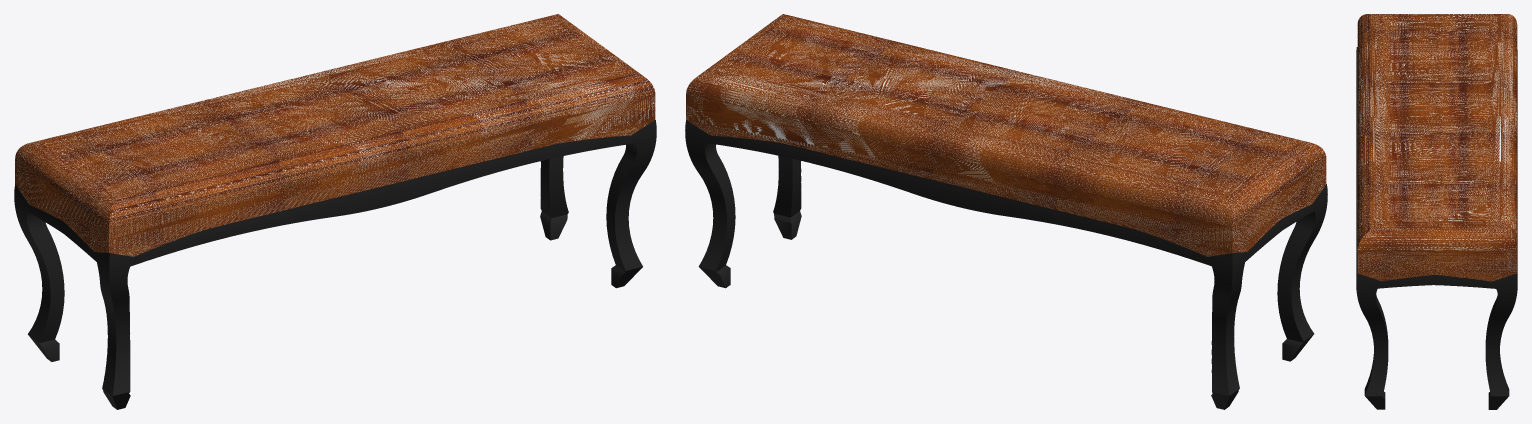
3 renders of one model, left to right at view 1: azimuth 30°, elevation 25°; view 2: azimuth 150°, elevation 25°; view 3: azimuth 270°, elevation 25°, orthographic. The views are drawn at different scales.
Parts seen in each view (by area): view 1: mesh4_mesh4-geometry, mesh1_mesh1-geometry; view 2: mesh4_mesh4-geometry, mesh1_mesh1-geometry; view 3: mesh4_mesh4-geometry, mesh1_mesh1-geometry.
Part boxes in pixels (x1,y1,x2,y2): mesh4_mesh4-geometry: [15, 14, 655, 256]; mesh1_mesh1-geometry: [14, 120, 656, 409]; mesh4_mesh4-geometry: [686, 14, 1326, 256]; mesh1_mesh1-geometry: [685, 120, 1327, 409]; mesh4_mesh4-geometry: [1357, 14, 1517, 281]; mesh1_mesh1-geometry: [1356, 47, 1517, 409].
Bounding box in the file's own units: 0.9009 × 0.3389 × 0.2712.
